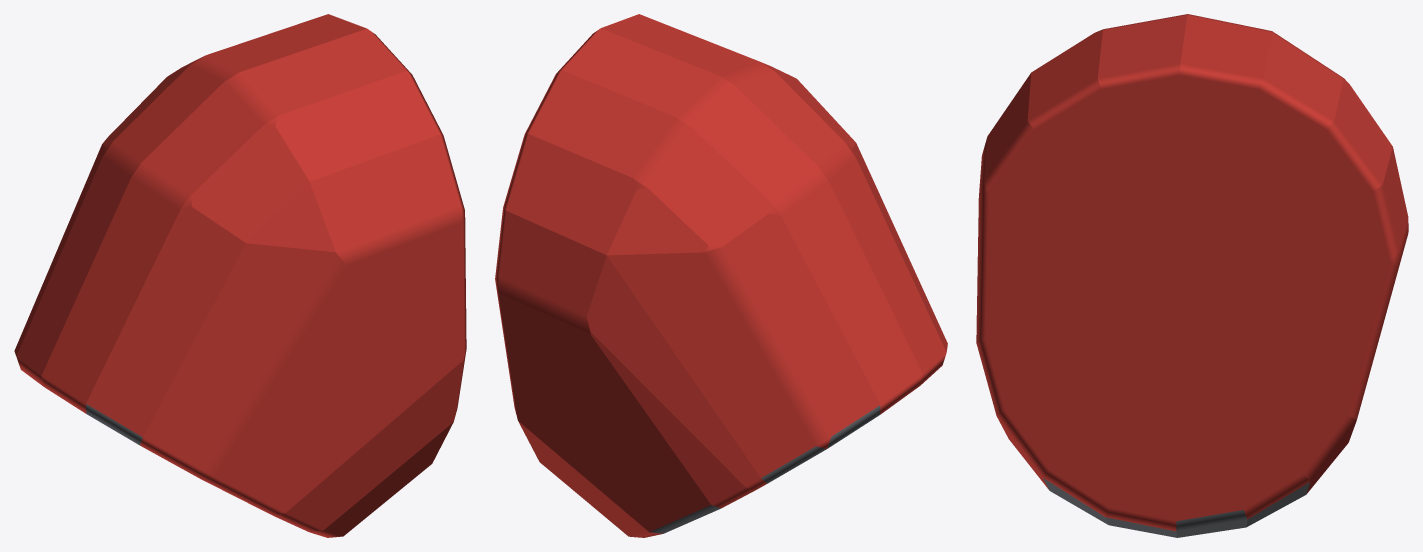
Rendered from SM_SB_Armor_upperarm_r.fbx.
3 views of the same model, side by side, from view 1: azimuth 30°, elevation 25°; view 2: azimuth 150°, elevation 25°; view 3: azimuth 270°, elevation 25° (orthographic). The views are drawn at different scales.
Parts seen in each view (by area): view 1: SM_SB_Armor_upperarm_r; view 2: SM_SB_Armor_upperarm_r; view 3: SM_SB_Armor_upperarm_r.
Part boxes in pixels (<box>): SM_SB_Armor_upperarm_r: <box>14,14,466,537</box>; SM_SB_Armor_upperarm_r: <box>495,14,947,537</box>; SM_SB_Armor_upperarm_r: <box>976,14,1408,537</box>.
Size of the model in its own units: 20.35 by 21.45 by 27.46.
